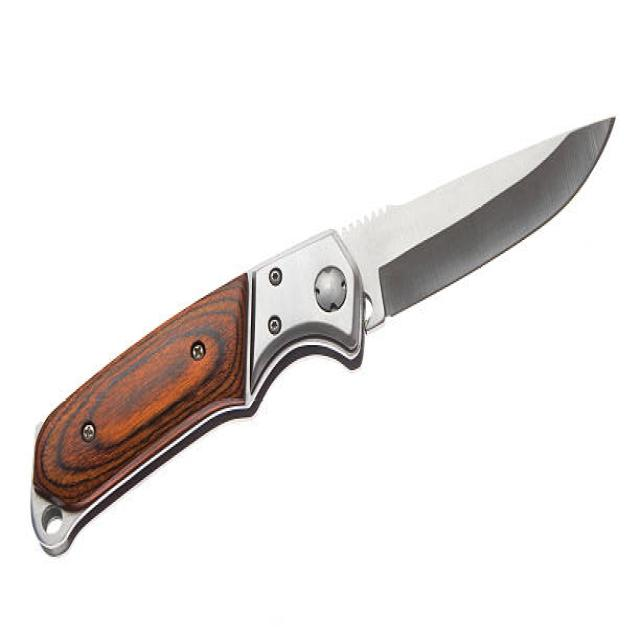knife: (31, 112, 623, 561)
